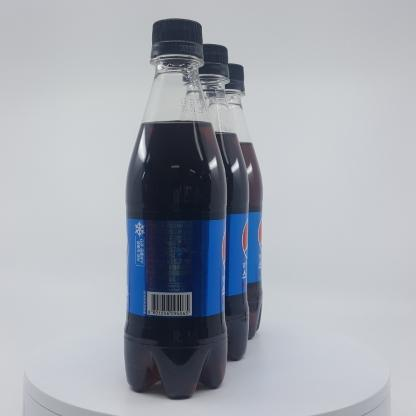-------400ML: (123, 18, 227, 399)
